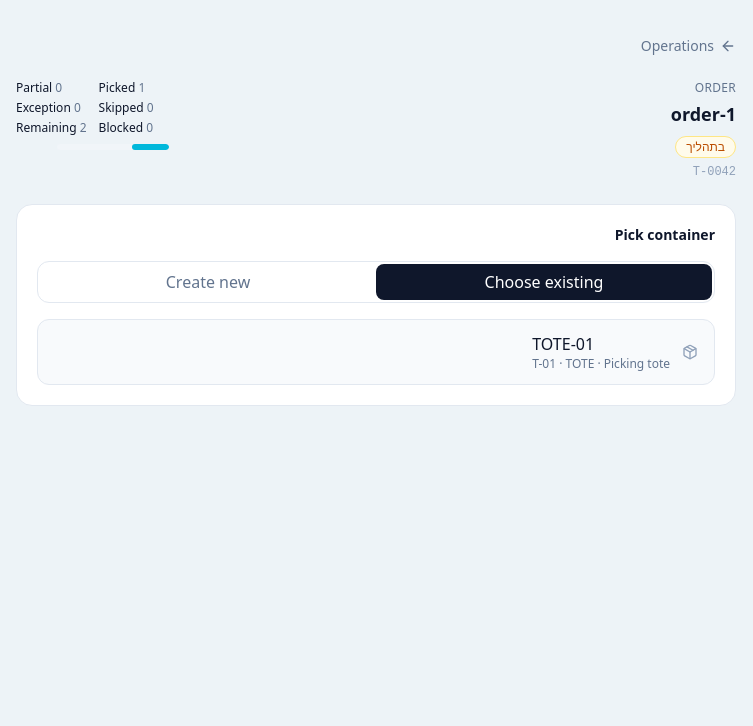
it: PickTaskPage › uses the canonical execute hook and immediately advances to the next guided actionable step while the snapshot is stale
Click the button "TOTE-01 T-01 · TOTE · Picking tote": (563, 344) [37,319,715,385]
(page scrolled)
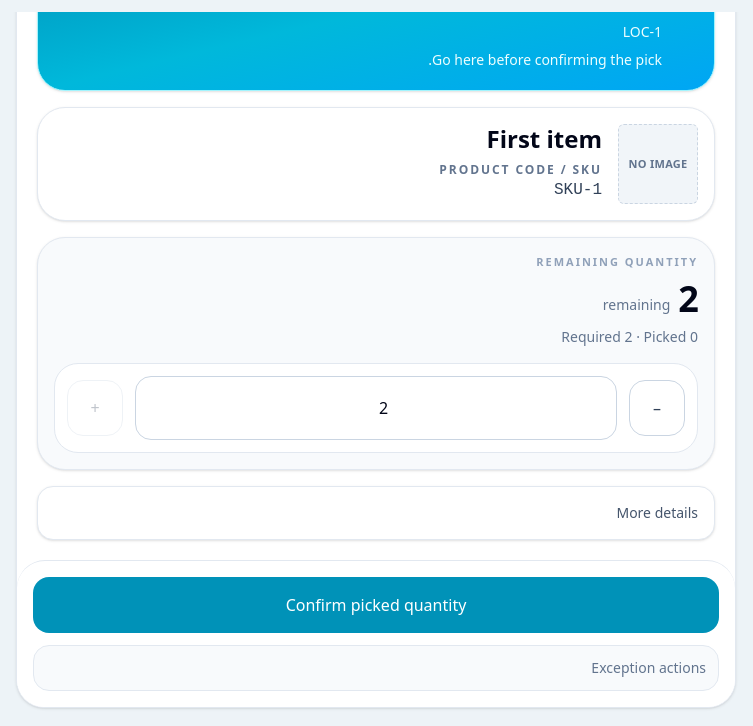
Click the button "Confirm picked quantity": (376, 604) [33,576,719,632]
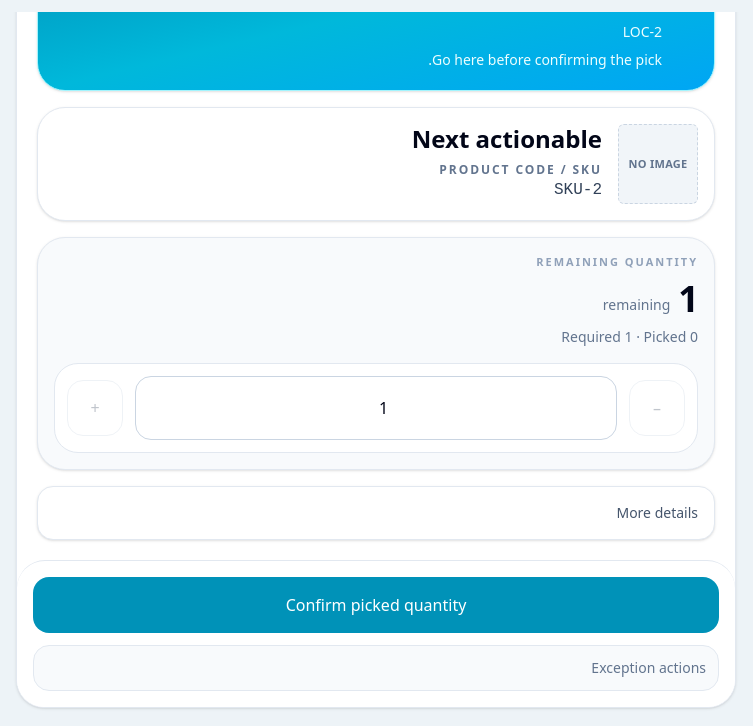
expect the text "Next actionable" is shown: met, box [412,122,602,155]
expect the text "First item" is gone: met
